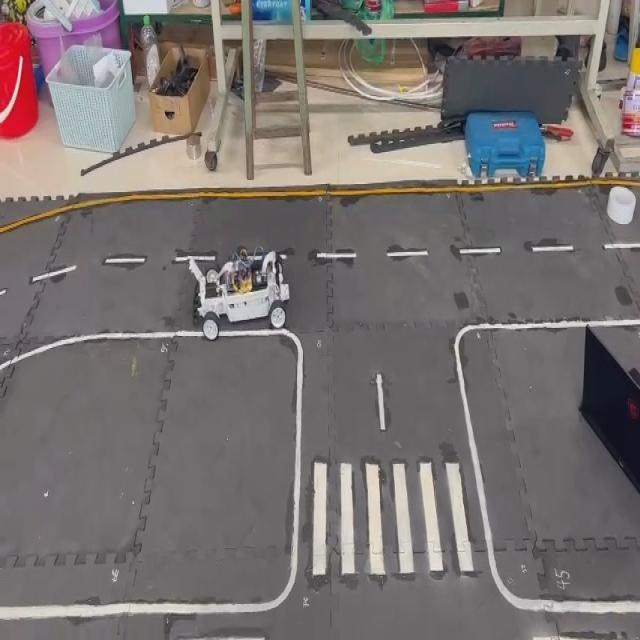SiCo-CAR: (184, 243, 292, 341)
